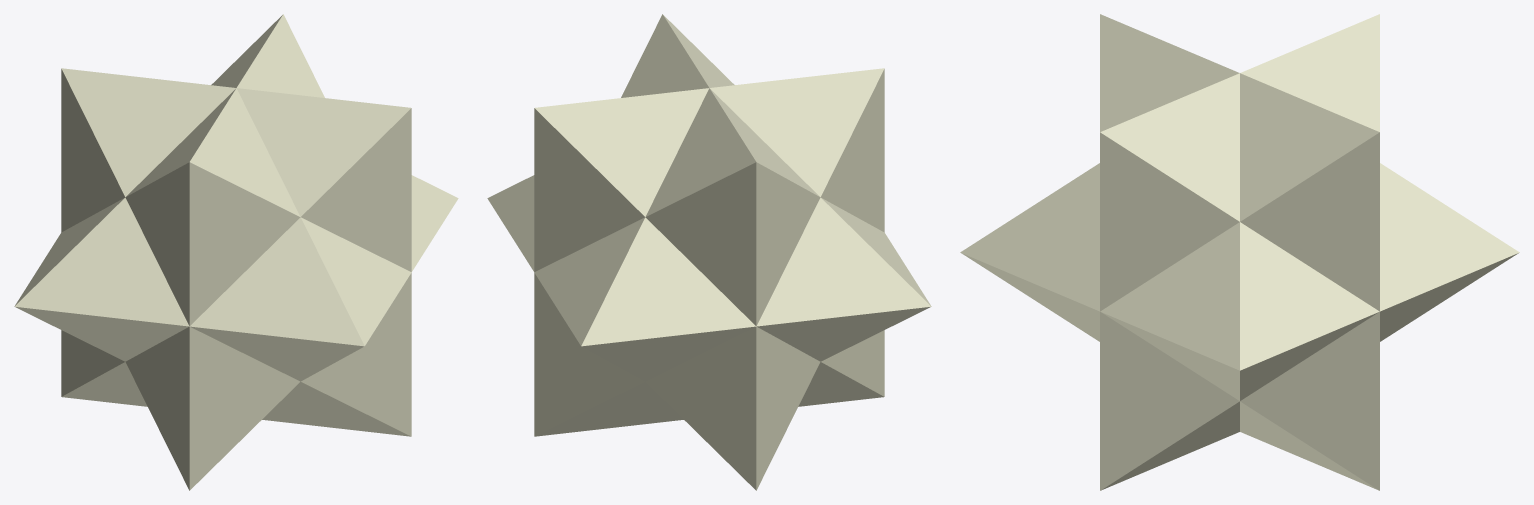
File: 36Sided_v1.fbx
3 views of the same model, side by side, from view 1: azimuth 30°, elevation 25°; view 2: azimuth 150°, elevation 25°; view 3: azimuth 270°, elevation 25° (orthographic). The views are drawn at different scales.
Visible parts, largest first — view 1: Model; view 2: Model; view 3: Model.
Boxes of the visible parts, x1,y1,x2,y2 form: Model: (14,14,458,490); Model: (487,14,931,490); Model: (960,14,1519,490).
Size of the model in its own units: 120 by 84.85 by 120.
